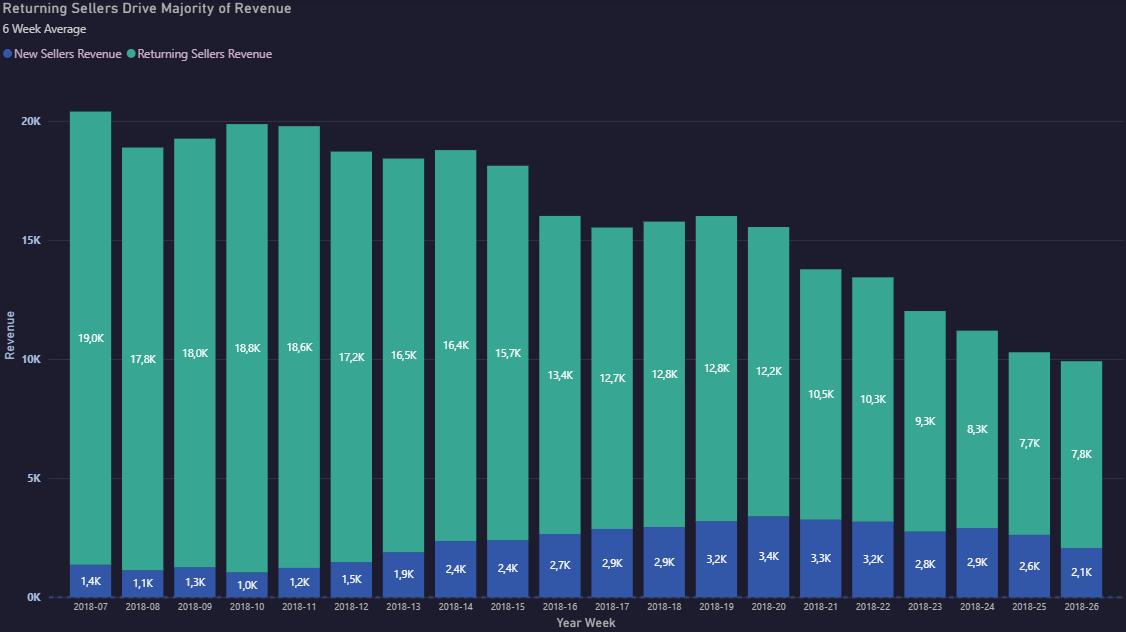

This screenshot's page, from the dashboard's own definition file:
{"tool":"powerbi","page":{"name":"Returning Customers drive Majority o Revenue","canvas":[1280,720],"ordinal":4},"visuals":[{"type":"columnChart","title":"Returning Sellers Drive Majority of Revenue","fields":{"Category":["sports_leisure_weekly_2.Year Week"],"Y":["Sum(sports_leisure_weekly_2.revenue_new_sellers_6w)","Sum(sports_leisure_weekly_2.revenue_returning_sellers_6w)"]},"box":[0,0,1280.3,719.9],"z":0}]}

Visuals, with their boxes in screenshot pixels (x1, y1, x2, y2), scaled from the page's 1280x720 canvas onto the 1126x632 screenshot:
"Returning Sellers Drive Majority of Revenue" columnChart: (0,0,1125,631)
